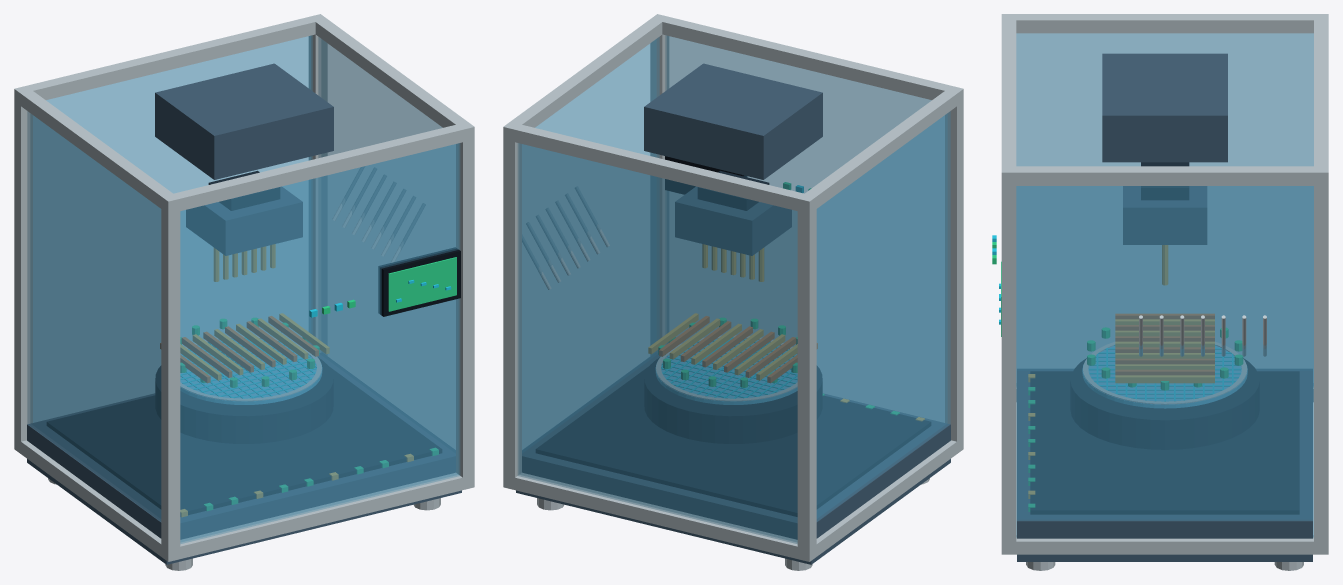
The model's file is 53_L79_VerticalDaisyChainTester.fbx.
3 renders of one model, left to right at view 1: azimuth 30°, elevation 25°; view 2: azimuth 150°, elevation 25°; view 3: azimuth 270°, elevation 25°, orthographic. The views are drawn at different scales.
Visible parts, largest first — view 1: VerticalDaisyChainTester, VerticalDaisyChainTester_Part_0107, VerticalDaisyChainTester_Part_0115; view 2: VerticalDaisyChainTester, VerticalDaisyChainTester_Part_0107, VerticalDaisyChainTester_Part_0115; view 3: VerticalDaisyChainTester, VerticalDaisyChainTester_Part_0107, VerticalDaisyChainTester_Part_0115.
Boxes of the visible parts, <box> form: VerticalDaisyChainTester: <box>14,14,474,570</box>; VerticalDaisyChainTester_Part_0107: <box>186,186,302,255</box>; VerticalDaisyChainTester_Part_0115: <box>208,170,279,210</box>; VerticalDaisyChainTester: <box>503,14,963,570</box>; VerticalDaisyChainTester_Part_0107: <box>675,186,791,255</box>; VerticalDaisyChainTester_Part_0115: <box>698,170,769,210</box>; VerticalDaisyChainTester: <box>992,14,1328,570</box>; VerticalDaisyChainTester_Part_0107: <box>1123,186,1206,244</box>; VerticalDaisyChainTester_Part_0115: <box>1141,162,1189,199</box>.
Size of the model in its own units: 230 by 267 by 195.
